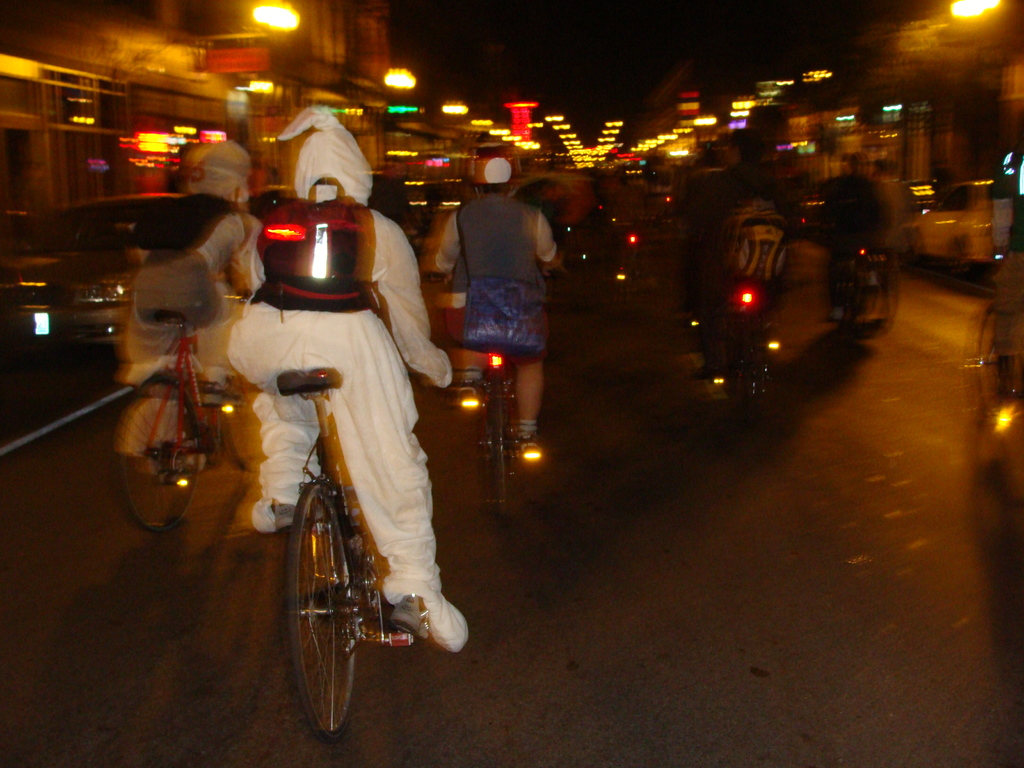Bike_away: (258, 369, 453, 741), (115, 312, 241, 532), (448, 331, 561, 512)
